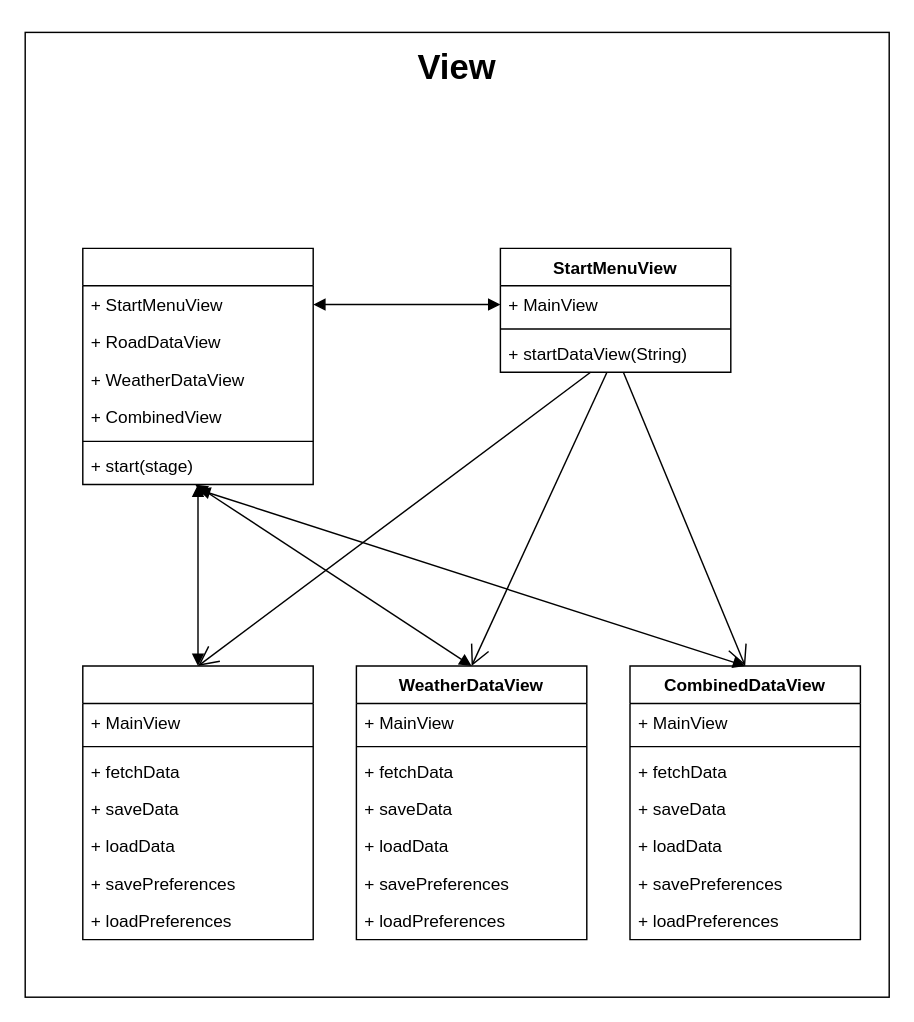
Image size: 914x1022. Some labels were removed from this diagram. Here are the shapes that lost their labels. From the top down, the box of each, then its label:
(81, 247, 313, 485): MainView
(81, 665, 313, 940): RoadDataView
